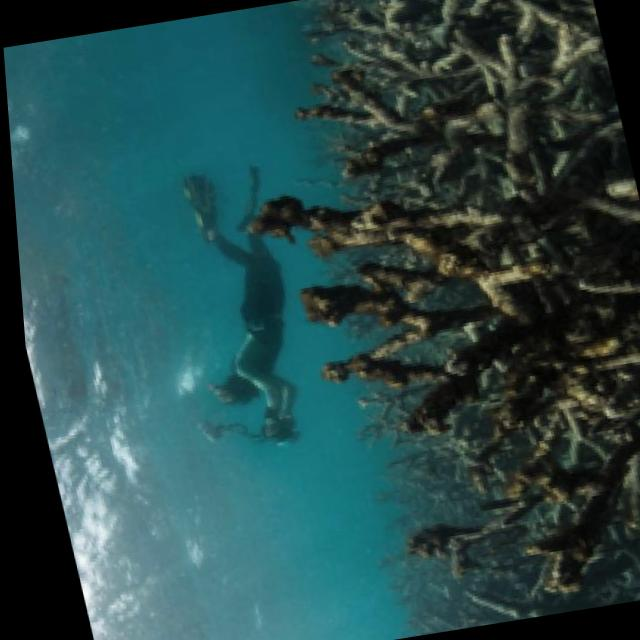Dead Coral: (201, 0, 640, 630)
